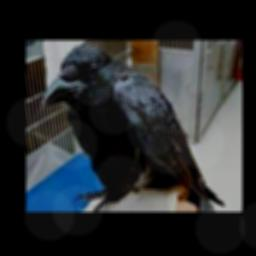Crow: (41, 43, 225, 211)
